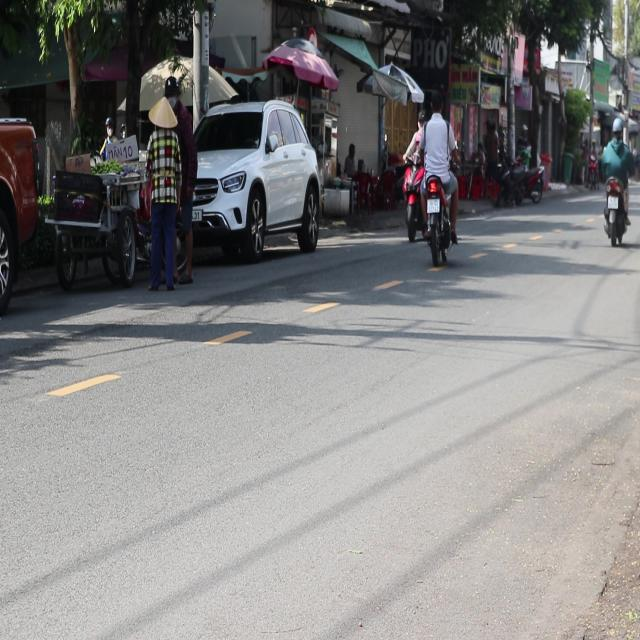licenseplate: (418, 86, 460, 264)
motorcyclist: (429, 88, 443, 115)
nohelmet: (426, 198, 439, 213)
